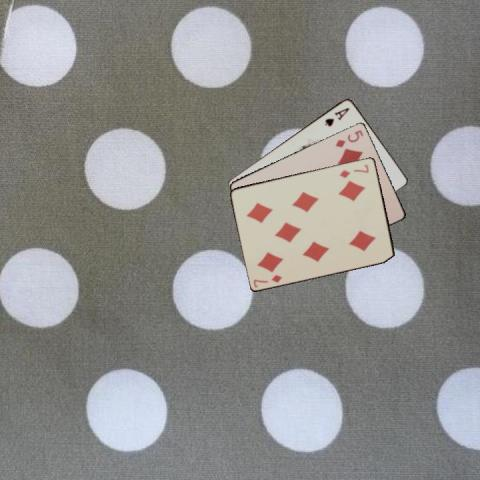5d: (332, 126, 365, 148)
7d: (336, 162, 370, 180), (251, 271, 283, 289)
As: (322, 104, 351, 127)
